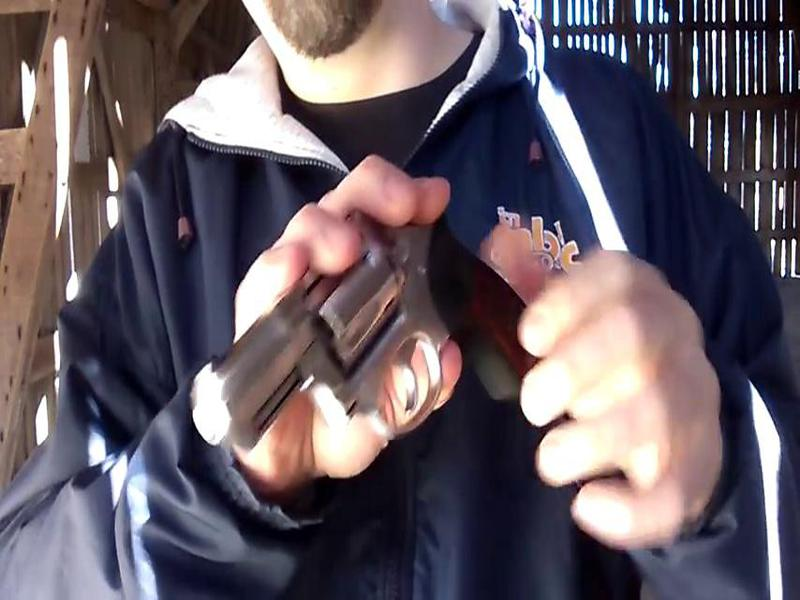Revolver: (143, 168, 564, 478)
